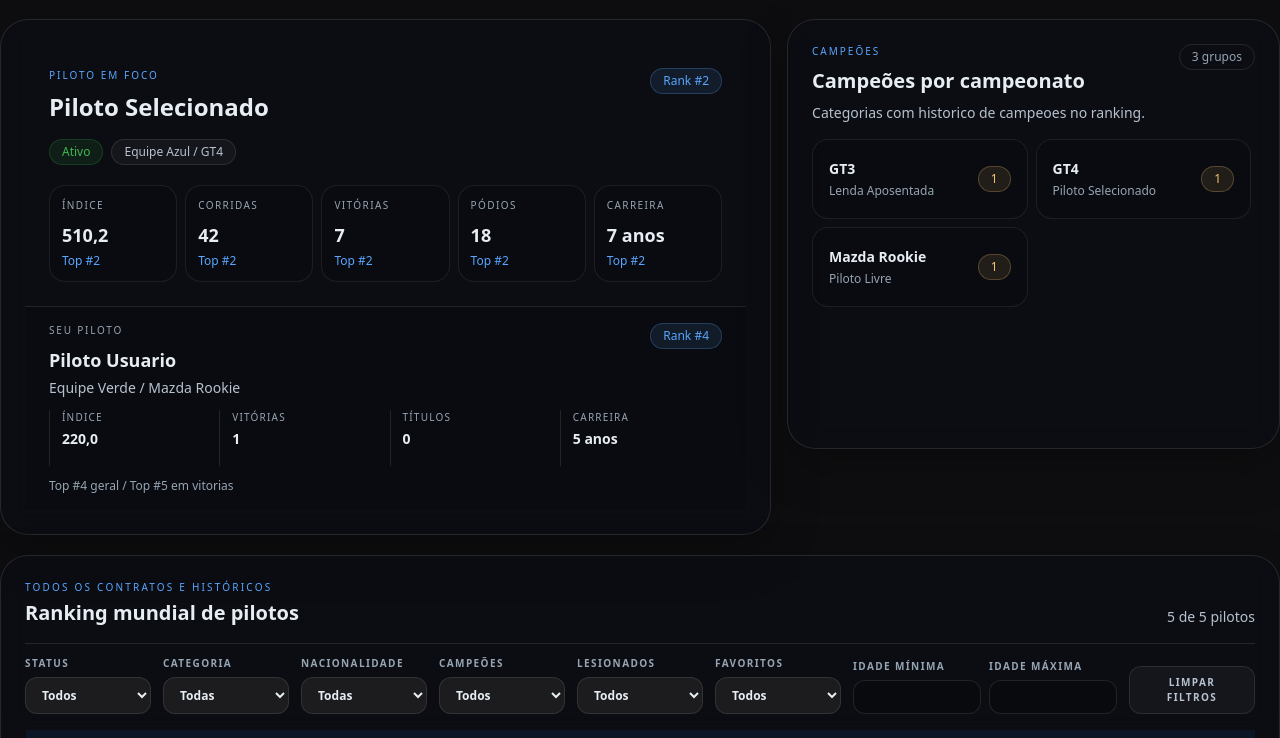
Test: GlobalDriversTab › shows the champion's team logo next to each title year
Click the button with aria-label "Ver campeões de GT3" at (920, 178), box [812,138,1028,218]
(page scrolled)
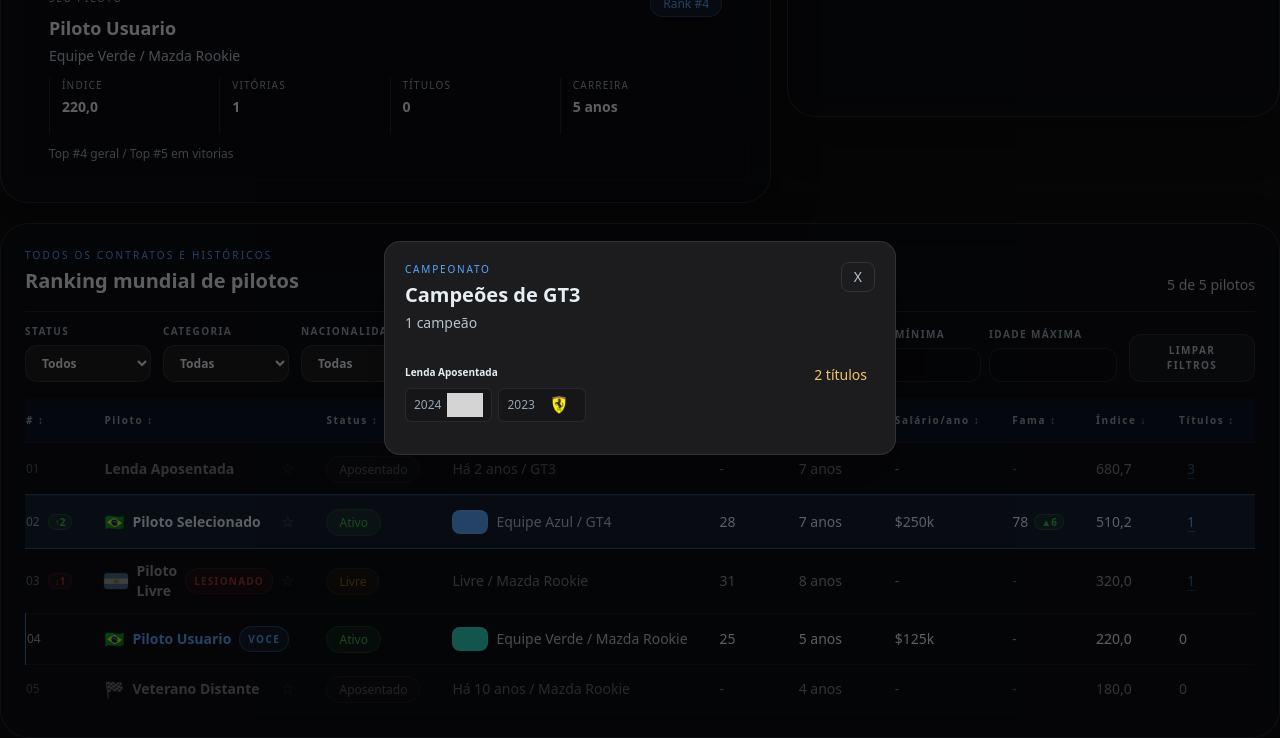
Result: the text "2024" is shown at [414,397,442,413]
Result: the text "2023" is shown at [508,397,535,413]
Result: the picture with alt text "Ferrari logo" is shown at [541,393,577,417]
